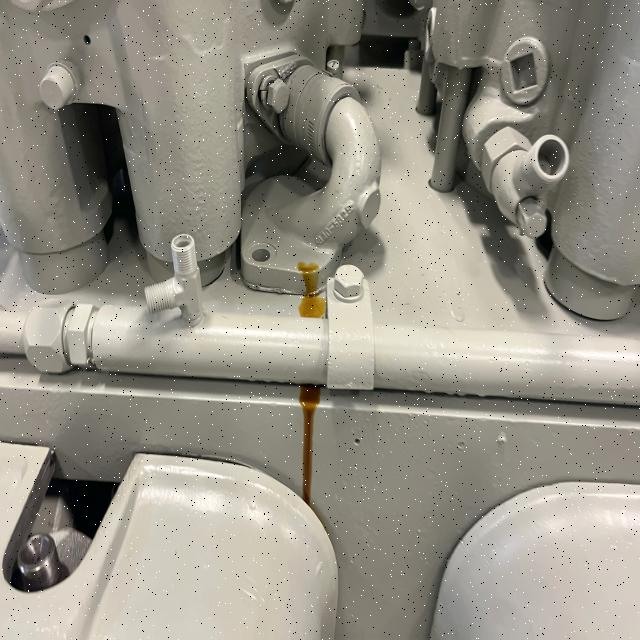Oil Leak: (299, 386, 320, 505), (298, 262, 325, 318)
